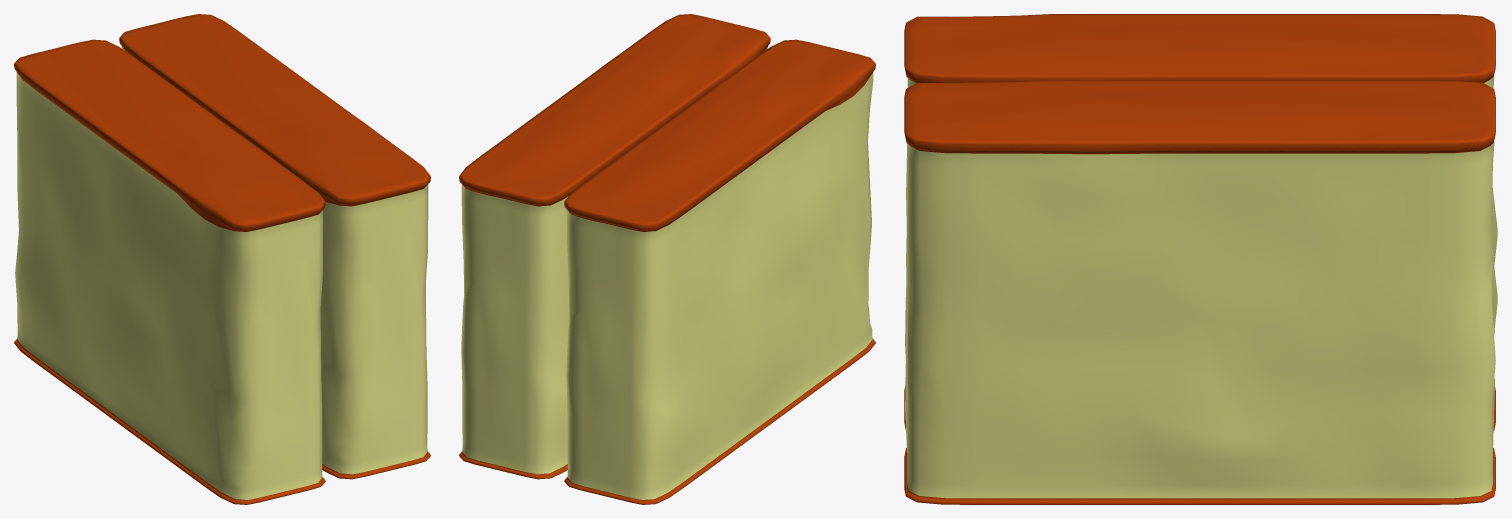
Rendered from Castella.fbx.
3 renders of one model, left to right at view 1: azimuth 30°, elevation 25°; view 2: azimuth 150°, elevation 25°; view 3: azimuth 270°, elevation 25°, orthographic. The views are drawn at different scales.
Parts seen in each view (by area): view 1: Cube; view 2: Cube; view 3: Cube.
Part boxes in pixels (x1=…): Cube: x1=14, y1=14, x2=430, y2=504; Cube: x1=459, y1=14, x2=875, y2=504; Cube: x1=904, y1=14, x2=1497, y2=504.
Size of the model in its own units: 274 by 355 by 519.
